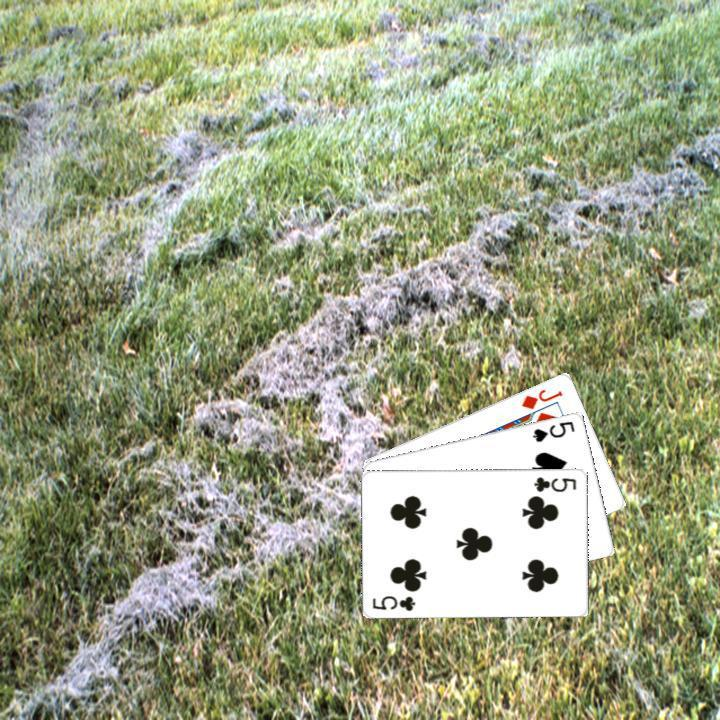5: (529, 416, 577, 444), (369, 591, 418, 613), (530, 472, 579, 493)
J: (517, 384, 565, 411)
